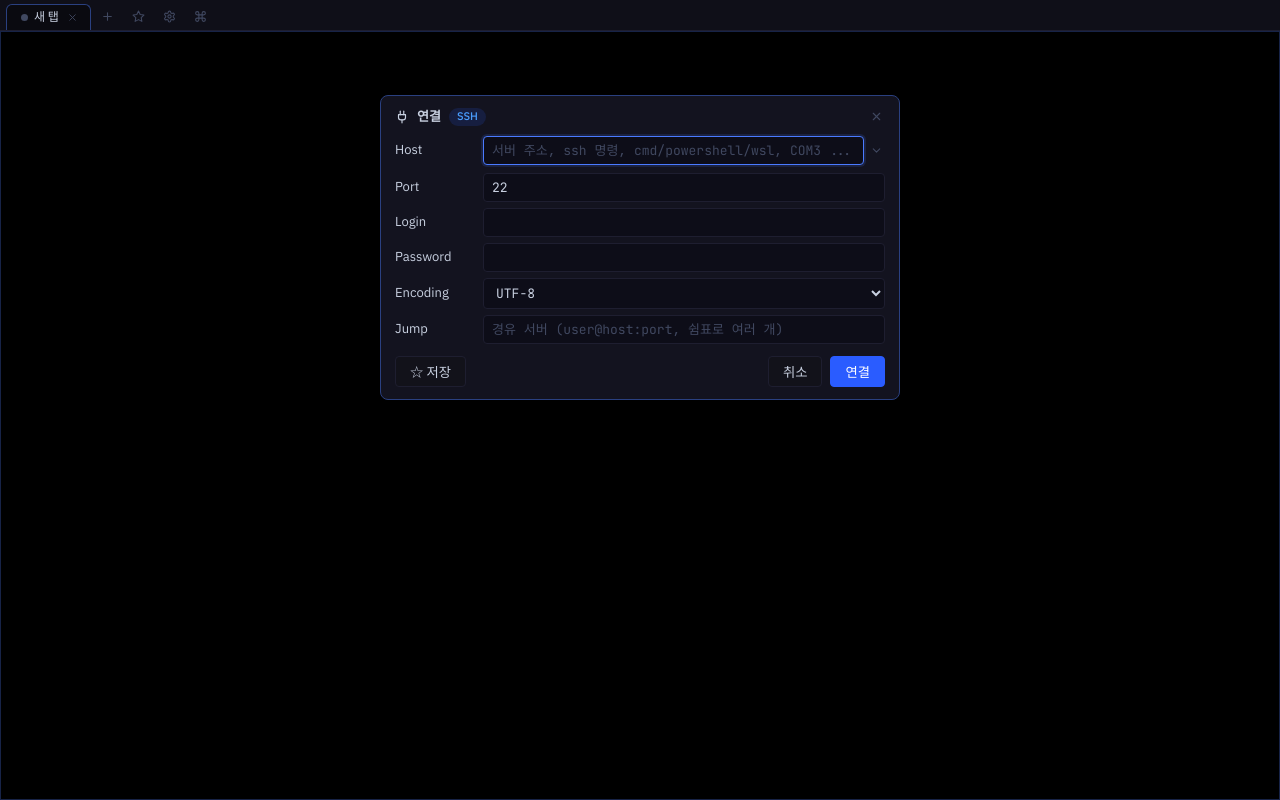
Test case: 세션 관리자 (SM) › SM-07: 삭제 — 확인 후 지우고 다음 세션 선택, 취소하면 유지
This screenshot has width=1280, height=800.
expect the field labelled "Host" is shown: met, box x1=483 y1=136 x2=864 y2=165
Press H in the element showing "새 탭 연결 SSH Host Port Login Password Encoding Jump ☆ 저장 취소 연결"
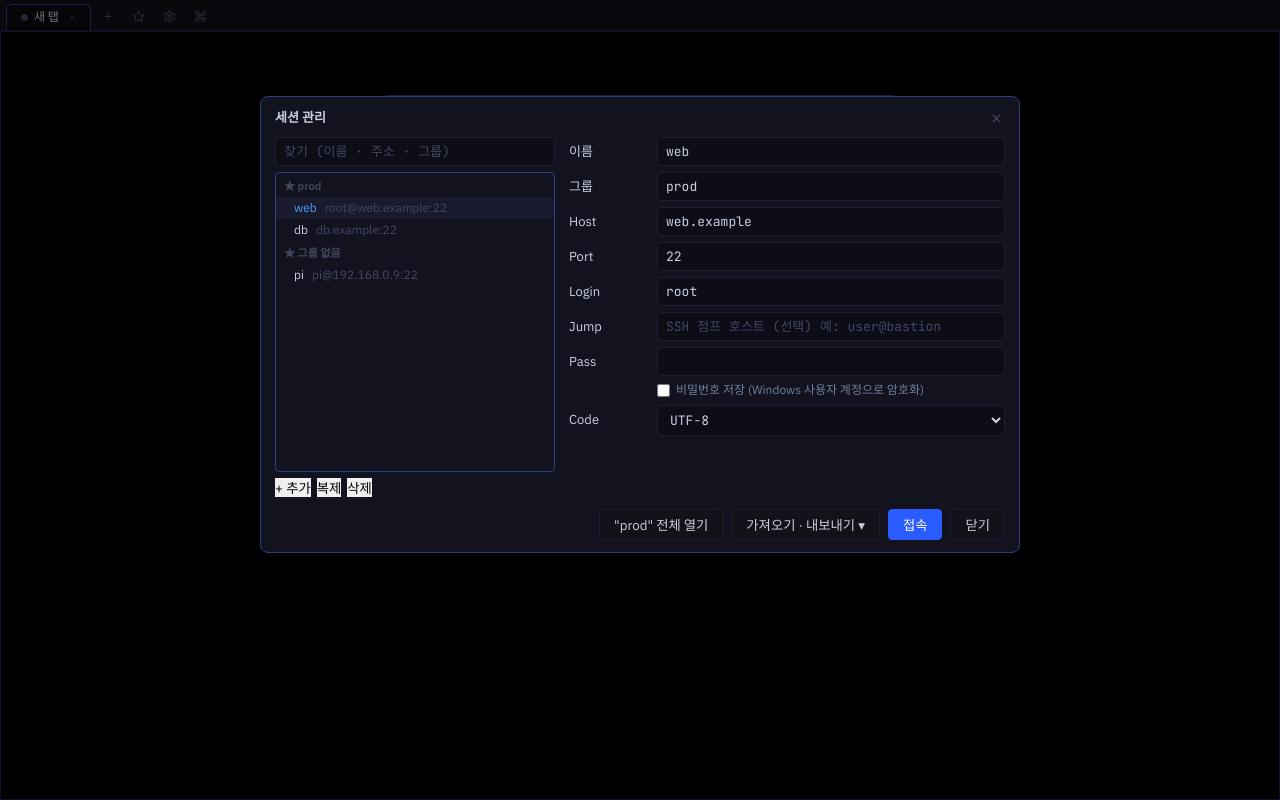
expect the option "web root@web.example:22" is shown: met, box x1=276 y1=197 x2=554 y2=219
Click the button "삭제". click: {"x": 359, "y": 488}
box: x1=347 y1=478 x2=372 y2=497
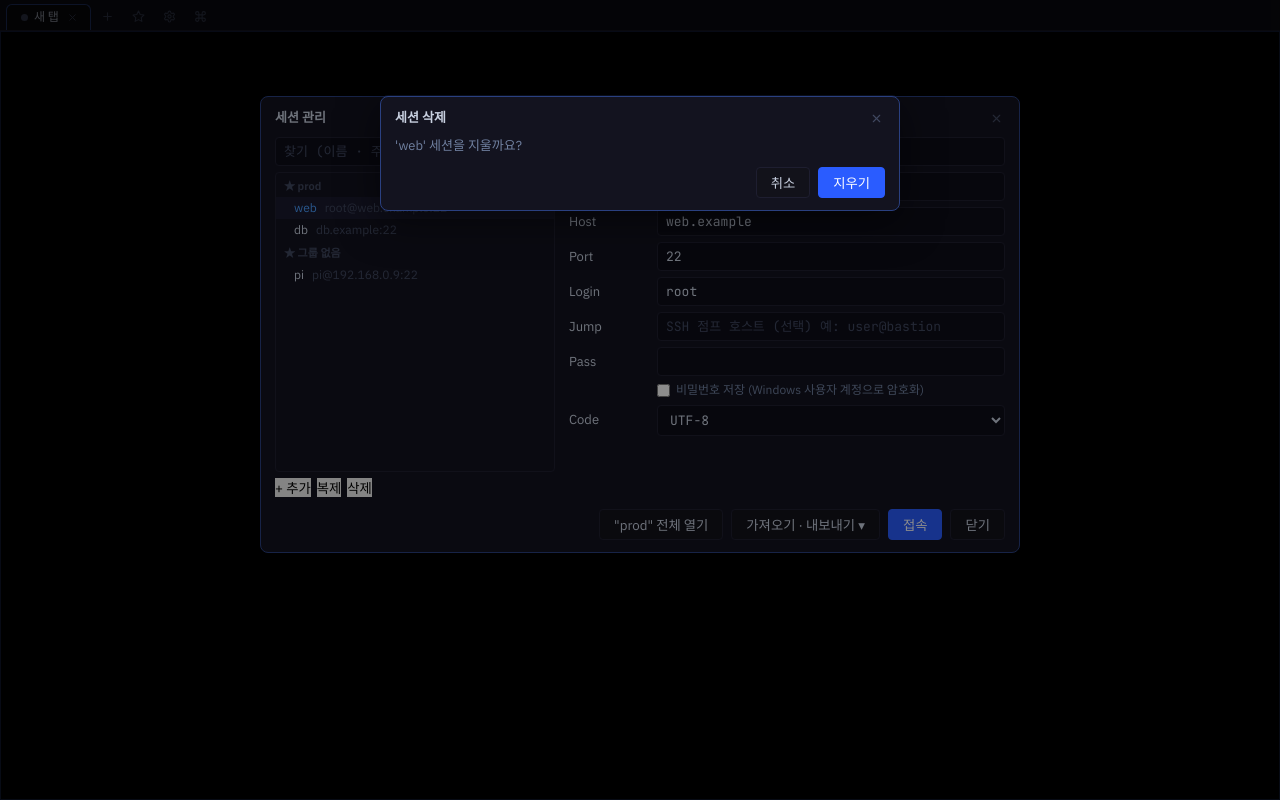
Click the button "취소". click: {"x": 783, "y": 183}
box: x1=756 y1=167 x2=810 y2=198
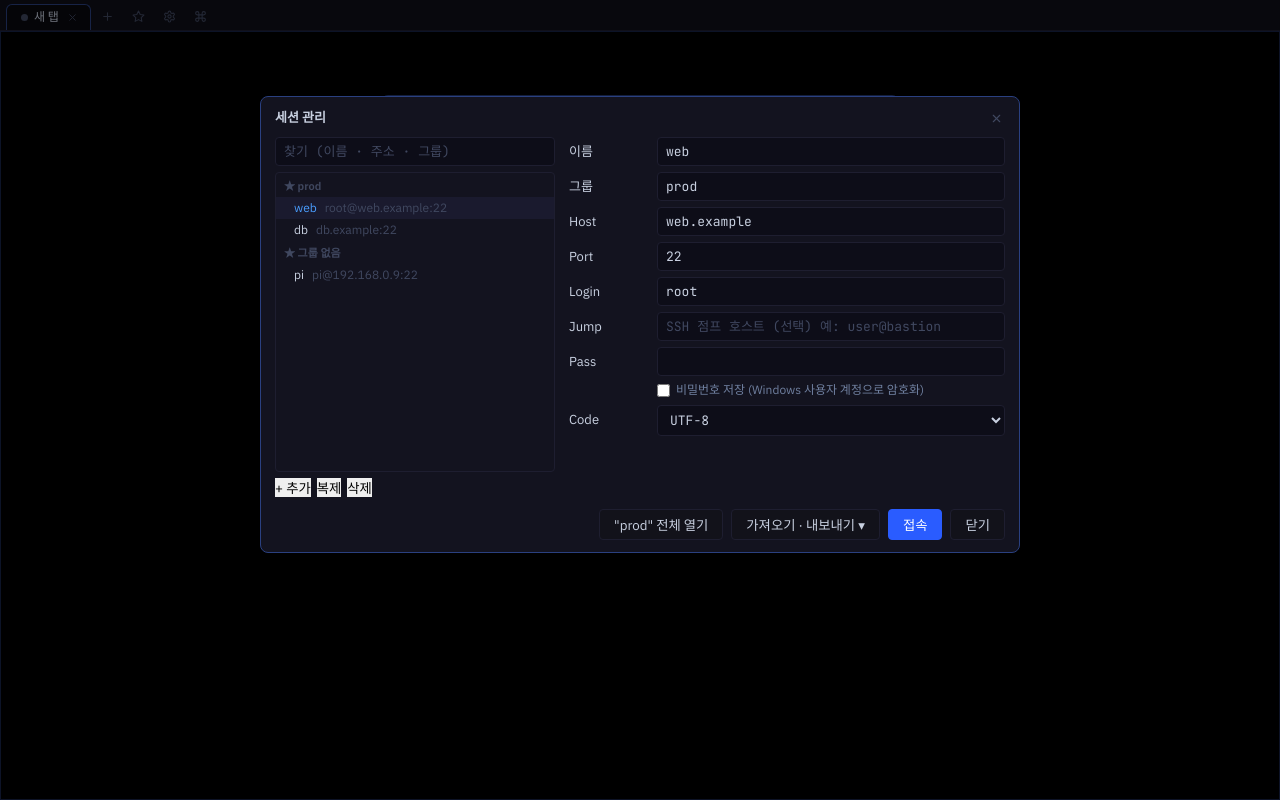
Click the button "삭제". click: {"x": 359, "y": 488}
box: x1=347 y1=478 x2=372 y2=497
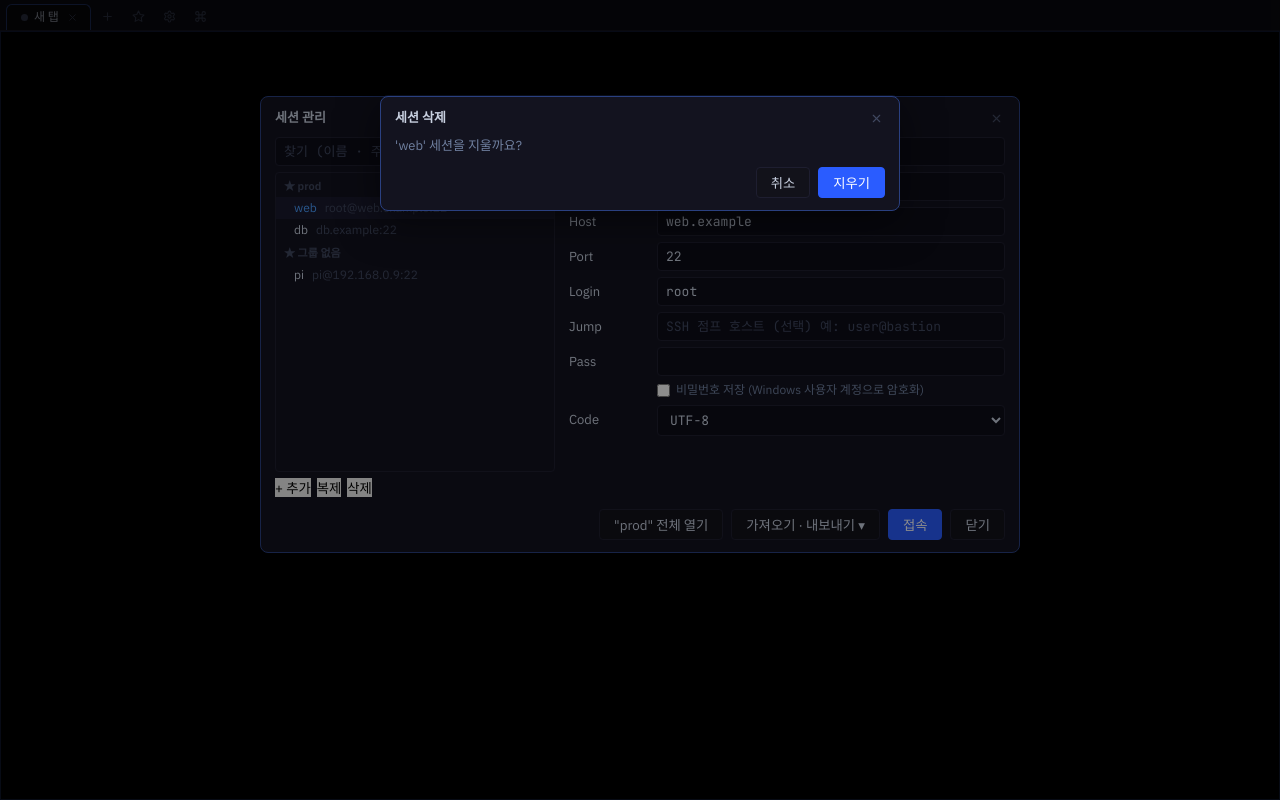
expect the text "'web' 세션을 지울까요?" is shown: met, box x1=395 y1=137 x2=522 y2=154
Click the button "지우기". click: {"x": 852, "y": 183}
box: x1=818 y1=167 x2=885 y2=198
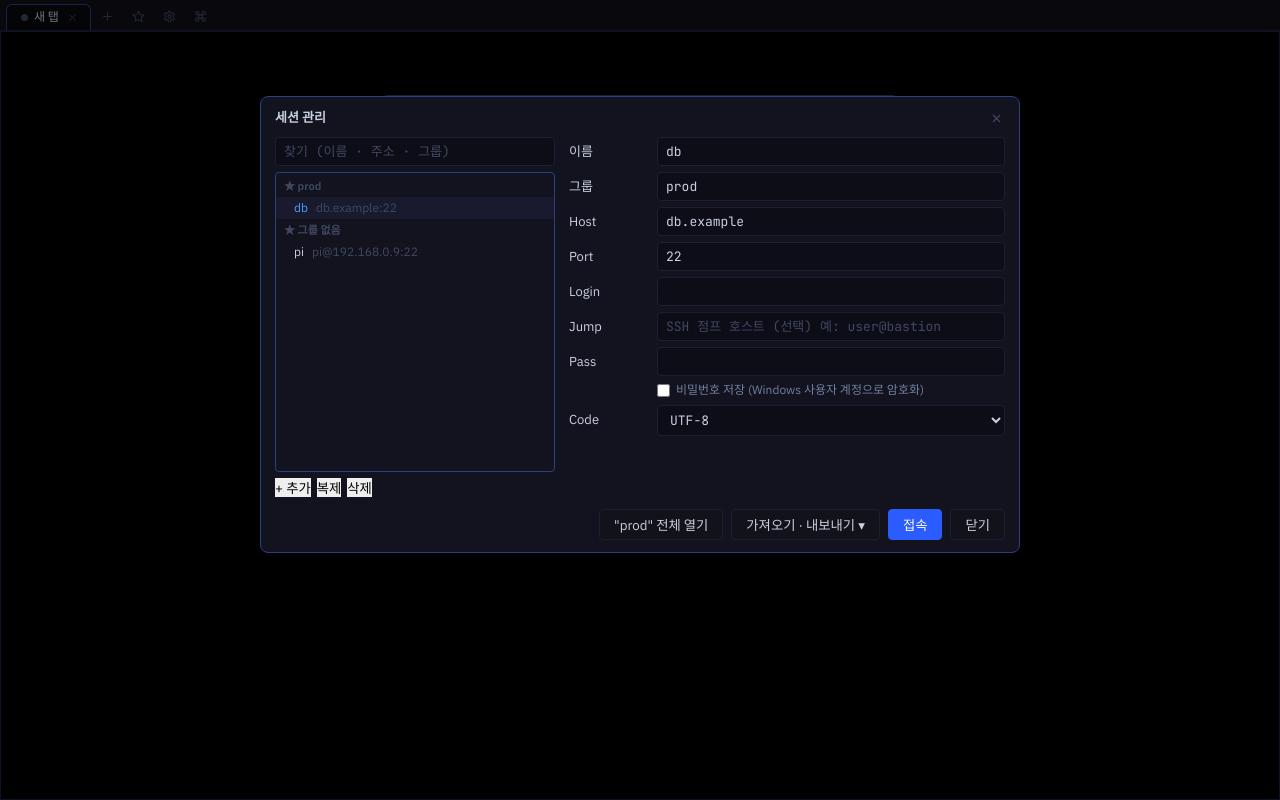
expect the option "web" is gone: met
